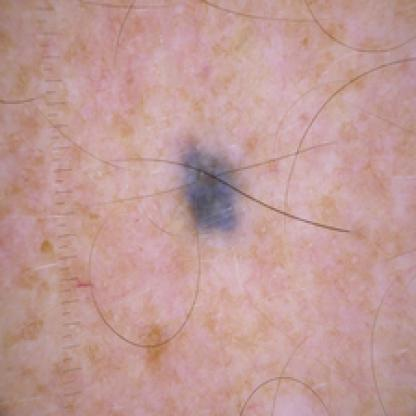benign: (173, 134, 247, 228)
